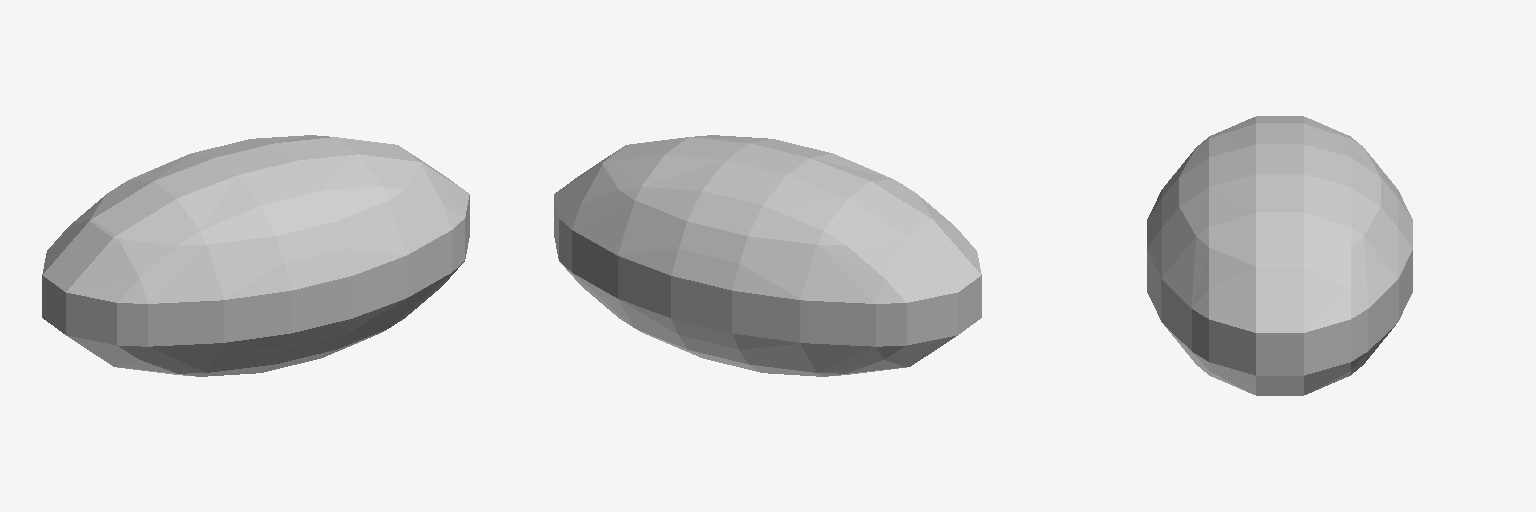
Rendered from ellipsoid.obj.
3 views of the same model, side by side, from view 1: azimuth 30°, elevation 25°; view 2: azimuth 150°, elevation 25°; view 3: azimuth 270°, elevation 25° (orthographic).
Parts seen in each view (by area): view 1: Mball_Meta; view 2: Mball_Meta; view 3: Mball_Meta.
Boxes of the visible parts, box(x1,y1,x2,y2) form: Mball_Meta: box(42, 135, 469, 376); Mball_Meta: box(554, 135, 981, 376); Mball_Meta: box(1147, 116, 1412, 395).
Size of the model in its own units: 0.5517 by 0.2525 by 0.314.